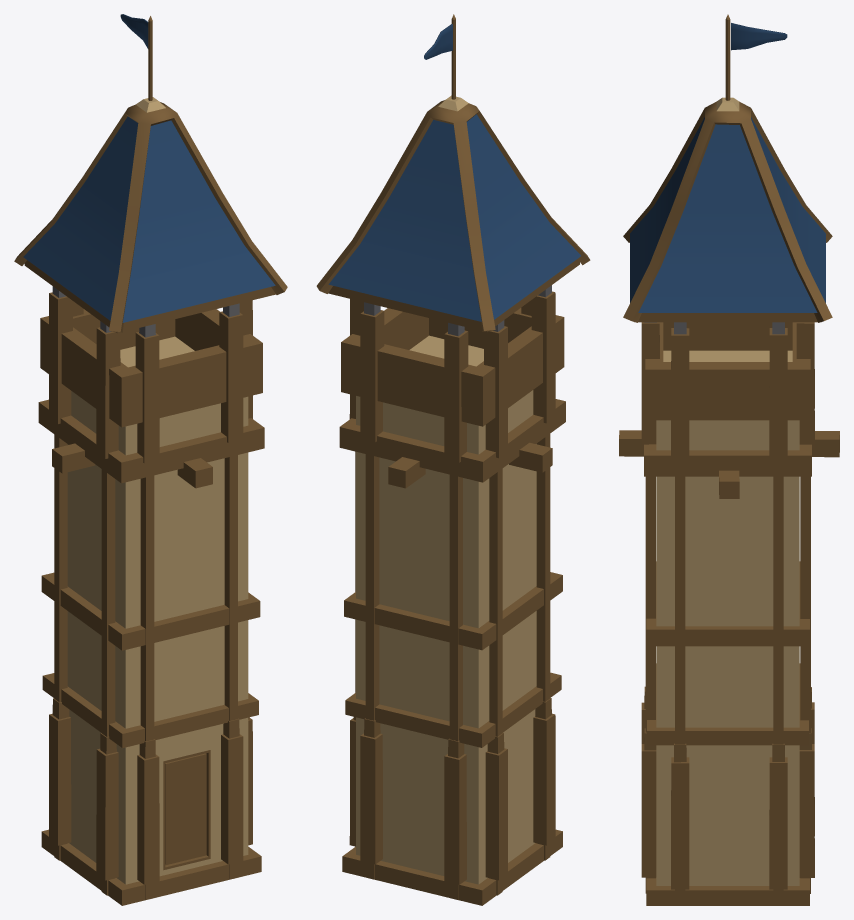
The model's file is ArrowTower.fbx.
The picture shows the model from 3 angles, left to right: view 1: azimuth 30°, elevation 25°; view 2: azimuth 150°, elevation 25°; view 3: azimuth 270°, elevation 25°; orthographic projection.
Parts seen in each view (by area): view 1: TowerArrow; view 2: TowerArrow; view 3: TowerArrow.
Boxes of the visible parts, x1,y1,x2,y2 form: TowerArrow: (14, 14, 287, 905); TowerArrow: (316, 14, 590, 905); TowerArrow: (619, 14, 839, 905).
Size of the model in its own units: 4.46 by 19.1 by 4.46.
